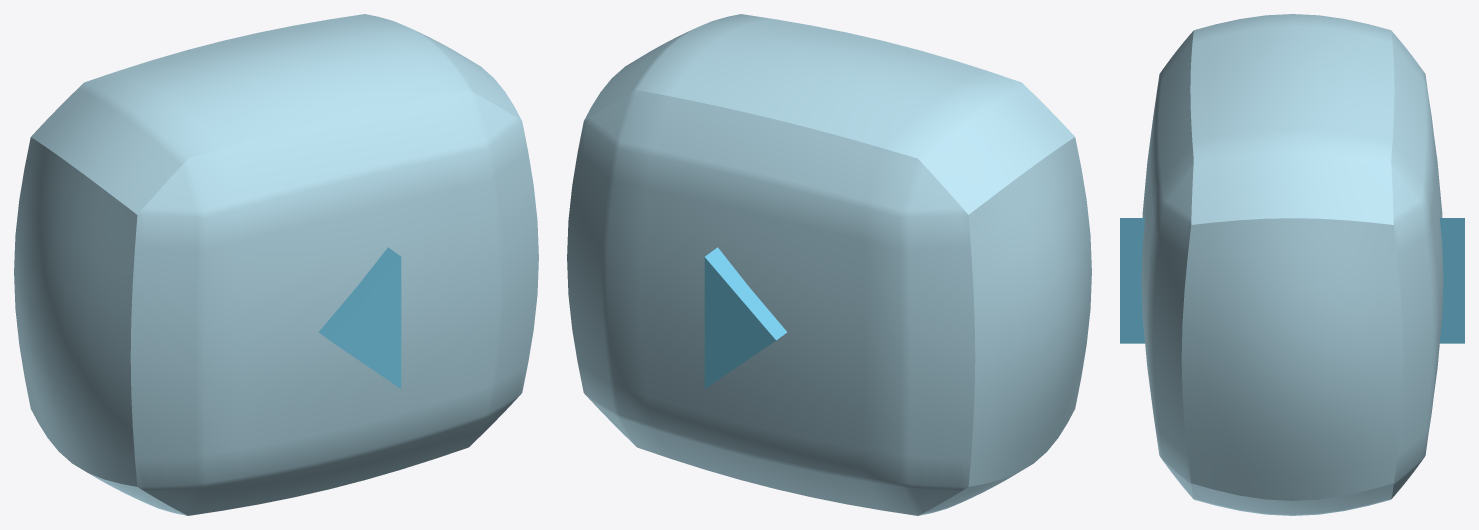
Rendered from play_button_animation_frame9.fbx.
The picture shows the model from 3 angles, left to right: view 1: azimuth 30°, elevation 25°; view 2: azimuth 150°, elevation 25°; view 3: azimuth 270°, elevation 25°; orthographic projection. The views are drawn at different scales.
Parts seen in each view (by area): view 1: Button, Triangle; view 2: Button, Triangle; view 3: Button, Triangle.
Boxes of the visible parts, bbox=[...] form: Button: bbox=[14, 14, 538, 515]; Triangle: bbox=[318, 247, 401, 388]; Button: bbox=[567, 14, 1091, 515]; Triangle: bbox=[704, 247, 787, 388]; Button: bbox=[1141, 14, 1443, 515]; Triangle: bbox=[1120, 218, 1464, 343].
Bounding box in the file's own units: 361 × 303 × 245.
